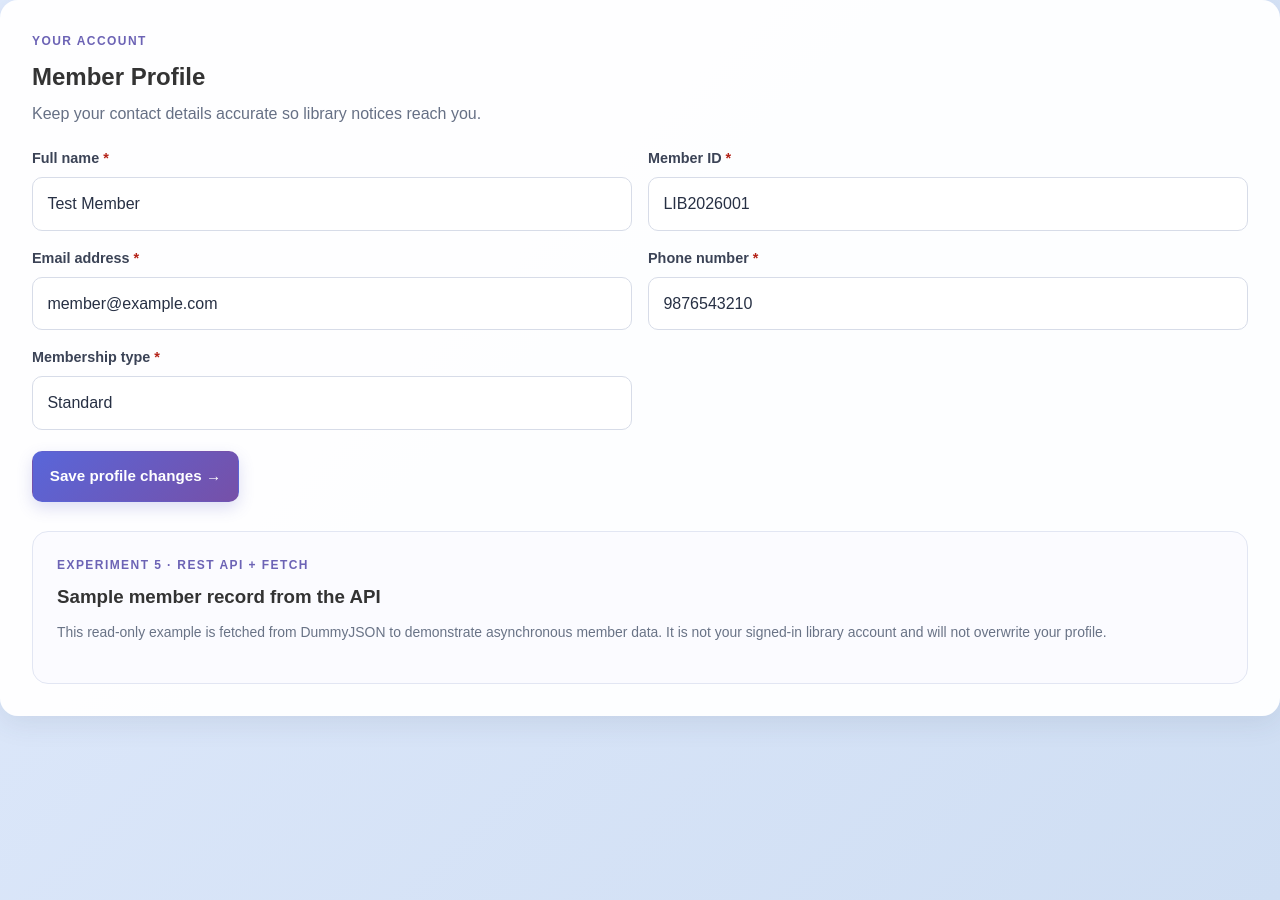
Scenario: Member Profile › validates the profile before submitting updates
Expected: the field showing "member@example.com" is shown, [32,276,632,330]
Replace the text in the field labelled "Full name *" with "Updated Member" at (332, 204), box [32,177,632,231]
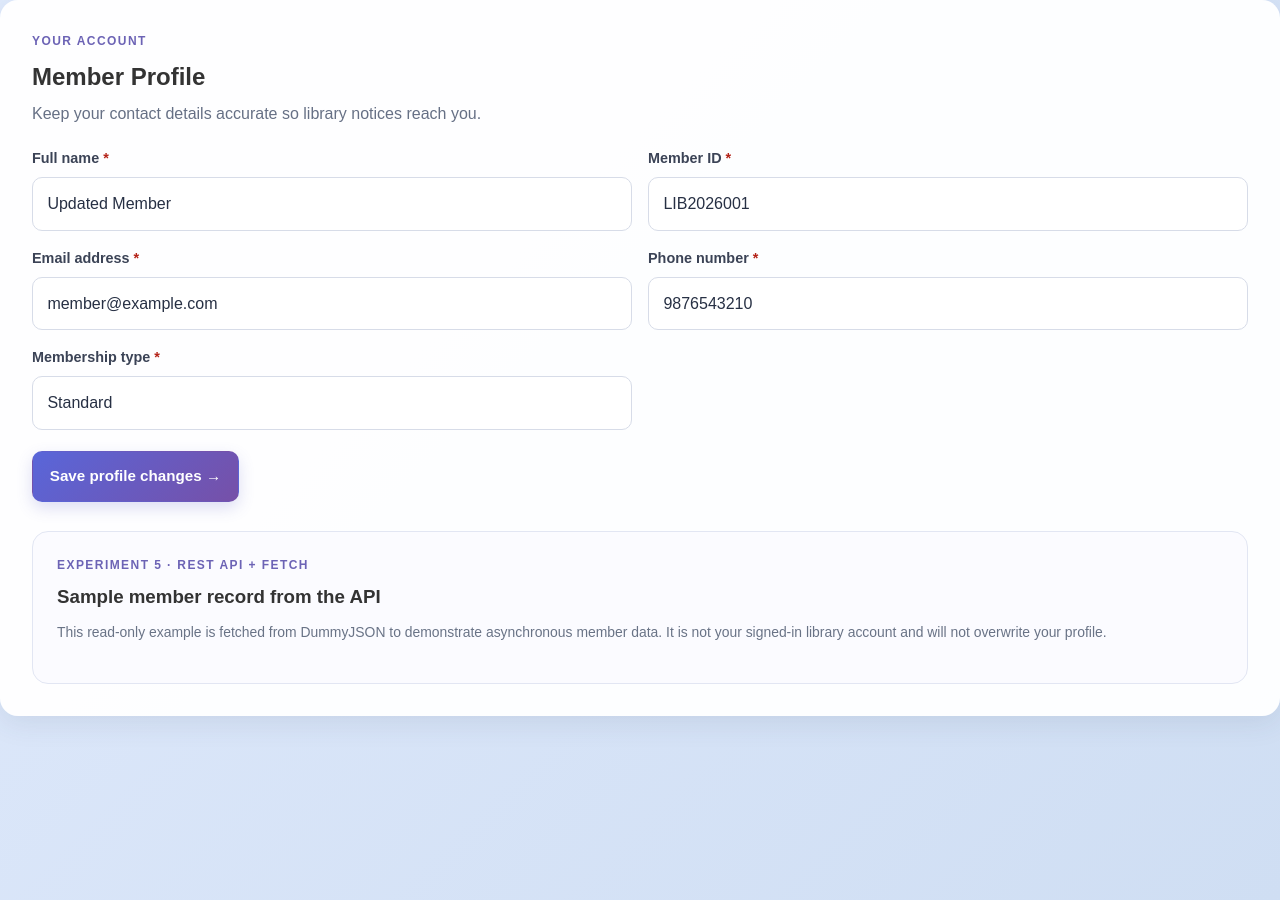
Click the button "Save profile changes →".
click(135, 476)  # box [32,451,239,502]
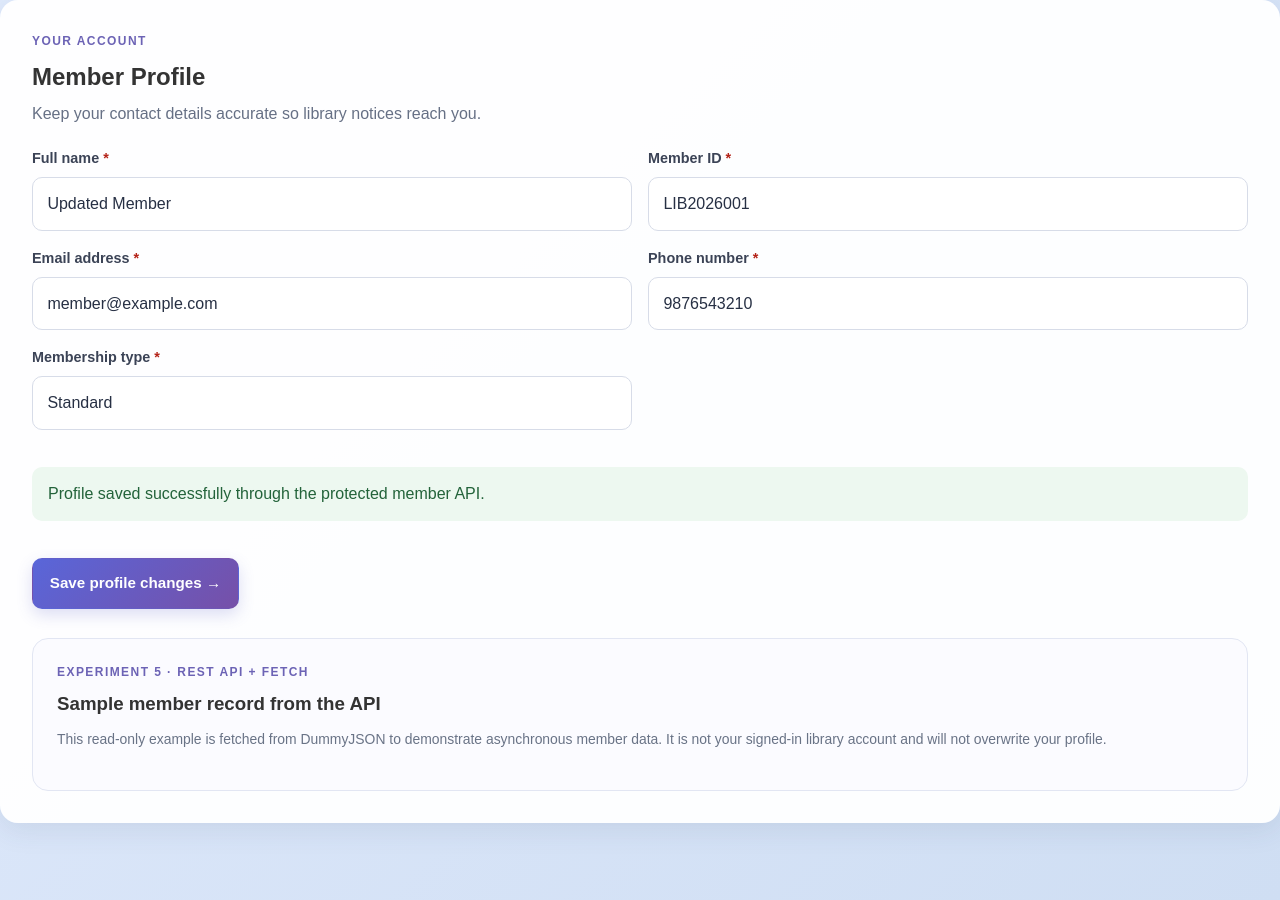
Expected: the message shows "Profile saved successfully", [48,485,485,502]
